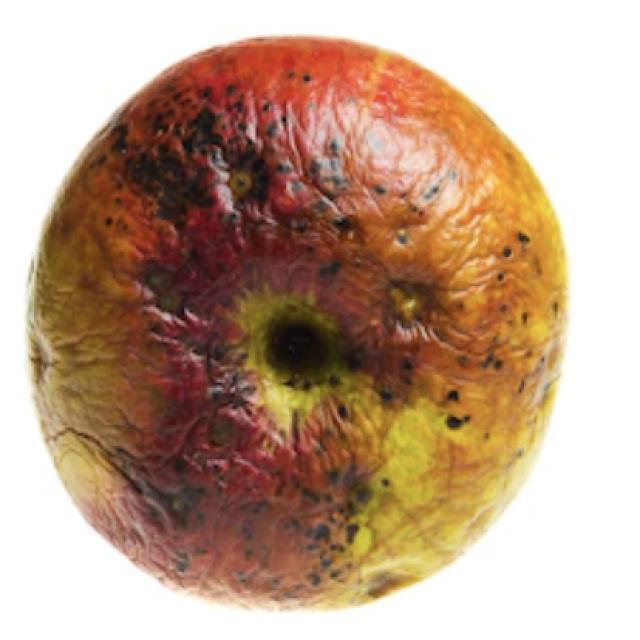Rotten: (35, 35, 558, 595)
